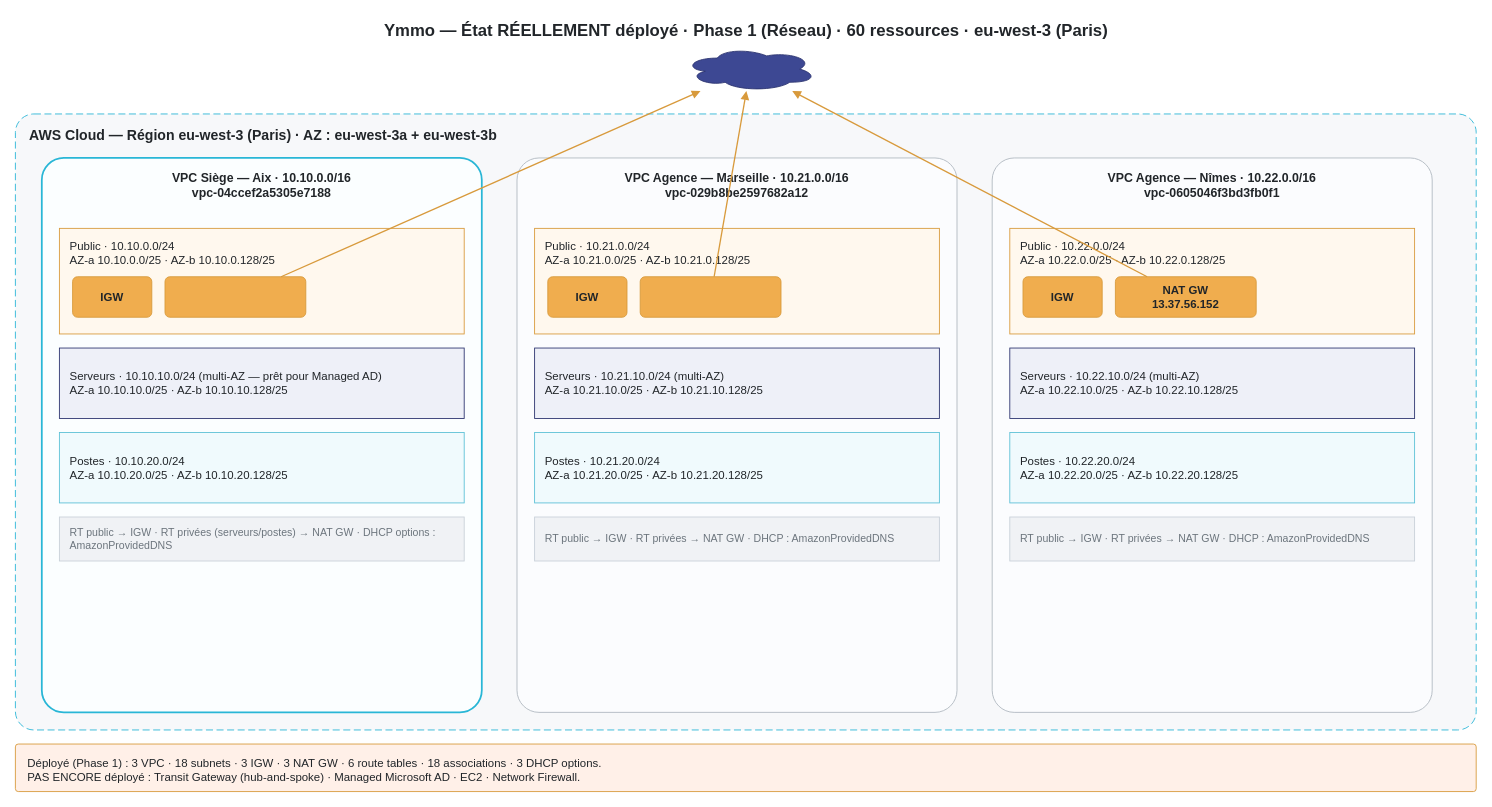
This 1492x807 diagram has some shape labels left out. The shapes that lost their labels are listed below. From the top down, each one's centre as x and y in pixels, then its label:
At [749,68]: "Internet".
At [235,296]: "NAT GW 13.37.194.252".
At [710,296]: "NAT GW 52.47.213.19".
